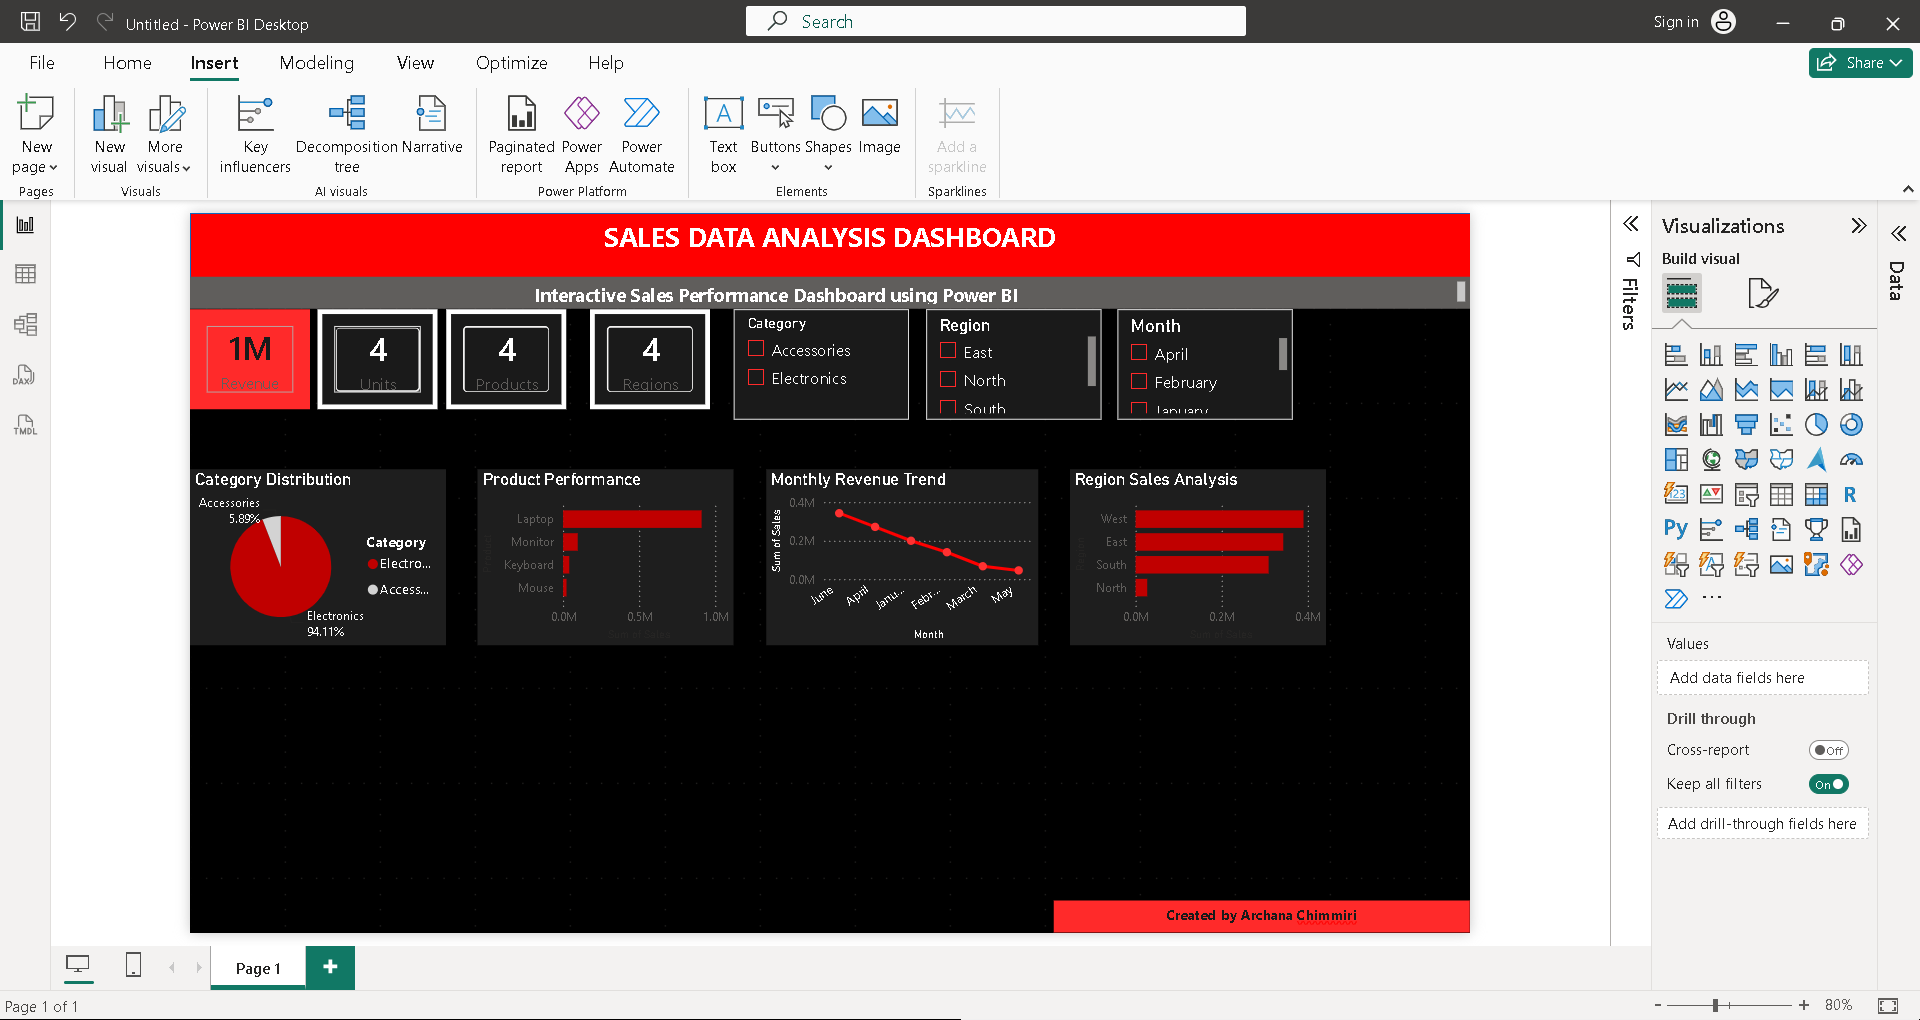

The page's visual inventory and layout, read from the dashboard file:
{"tool":"powerbi","page":{"name":"Page 1","canvas":[1280,720],"ordinal":0},"visuals":[{"type":"pieChart","title":"Category Distribution","fields":{"Category":["sales_data.Category"],"Y":["Sum(sales_data.Sales)"]},"box":[0,256,256,176],"z":0},{"type":"lineChart","title":"Monthly Revenue Trend","fields":{"Category":["sales_data.Month"],"Y":["Sum(sales_data.Sales)"]},"box":[576,256,272,176],"z":1000},{"type":"clusteredBarChart","title":"Product Performance","fields":{"Category":["sales_data.Product"],"Y":["Sum(sales_data.Sales)"]},"box":[288,256,256,176],"z":2000},{"type":"clusteredBarChart","title":"Region Sales Analysis","fields":{"Category":["sales_data.Region"],"Y":["Sum(sales_data.Sales)"]},"box":[880,256,256,176],"z":3000},{"type":"shape","box":[0,0,1281.5,66.7],"z":4000},{"type":"textbox","box":[0,0,1280,66.3],"z":5000},{"type":"cardVisual","fields":{"Data":["Sum(sales_data.Sales)"]},"box":[0,96,120,100],"z":6000},{"type":"cardVisual","fields":{"Data":["Count(sales_data.Product)"]},"box":[128,96,120,100],"z":7000},{"type":"cardVisual","fields":{"Data":["Count(sales_data.Product)"]},"box":[256,96,120,100],"z":8000},{"type":"cardVisual","fields":{"Data":["Count(sales_data.Region)"]},"box":[400,96,120,100],"z":9000},{"type":"slicer","fields":{"Values":["sales_data.Region"]},"box":[736,96,175,110],"z":10000},{"type":"slicer","fields":{"Values":["sales_data.Category"]},"box":[544,96,175,110],"z":11000},{"type":"slicer","fields":{"Values":["sales_data.Month"]},"box":[928,96,175,110],"z":12000},{"type":"textbox","box":[0,64,1280,32],"z":13000},{"type":"textbox","box":[864,688,416,32],"z":13001}]}

Visuals, with their boxes on the page's 1280x720 design canvas (x1, y1, x2, y2). These are canvas units, not pixel positions in the 1920x1020 screenshot, which may show the page scaled, cropped or inside an application window:
"Category Distribution" pieChart: [0, 256, 256, 432]
"Monthly Revenue Trend" lineChart: [576, 256, 848, 432]
"Product Performance" clusteredBarChart: [288, 256, 544, 432]
"Region Sales Analysis" clusteredBarChart: [880, 256, 1136, 432]
shape: [0, 0, 1282, 67]
textbox: [0, 0, 1280, 66]
cardVisual - Sum(sales_data.Sales): [0, 96, 120, 196]
cardVisual - Count(sales_data.Product): [128, 96, 248, 196]
cardVisual - Count(sales_data.Product): [256, 96, 376, 196]
cardVisual - Count(sales_data.Region): [400, 96, 520, 196]
slicer - sales_data.Region: [736, 96, 911, 206]
slicer - sales_data.Category: [544, 96, 719, 206]
slicer - sales_data.Month: [928, 96, 1103, 206]
textbox: [0, 64, 1280, 96]
textbox: [864, 688, 1280, 720]
